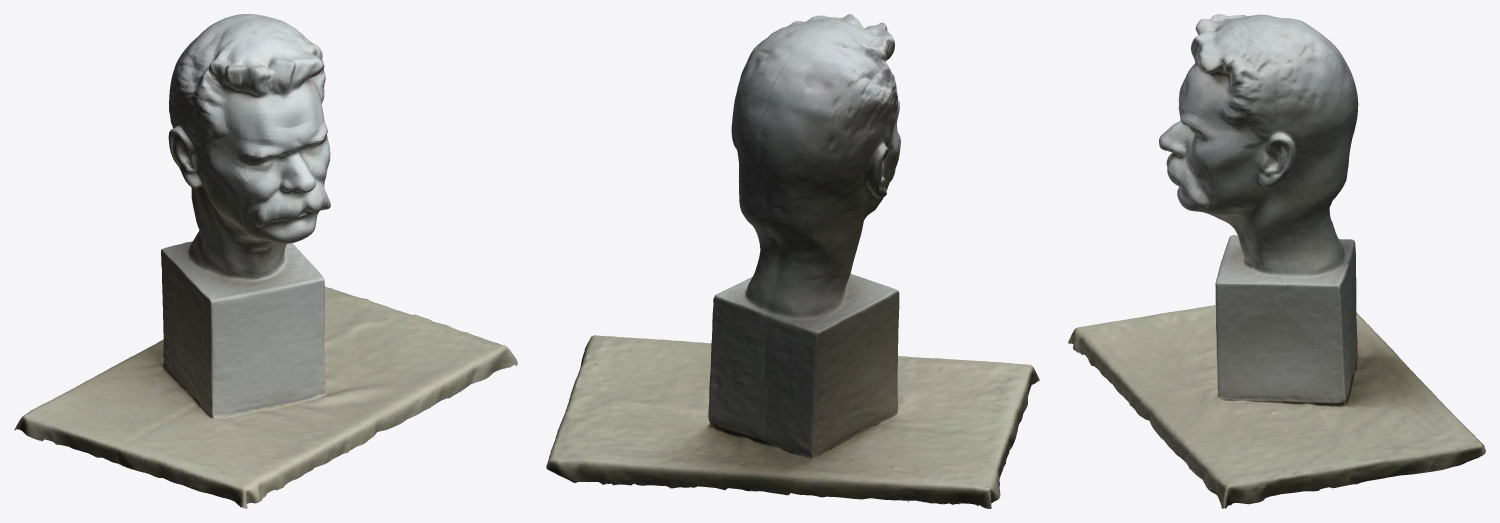
The model's file is 石膏头像_男老年_大胡男子胸像01_opt.glb.
3 renders of one model, left to right at view 1: azimuth 30°, elevation 25°; view 2: azimuth 150°, elevation 25°; view 3: azimuth 270°, elevation 25°, orthographic. The views are drawn at different scales.
Visible parts, largest first — view 1: surfaceShader12SG, surfaceShader12SG_2, surfaceShader12SG_4; view 2: surfaceShader12SG_2, surfaceShader12SG, surfaceShader12SG_4; view 3: surfaceShader12SG_2, surfaceShader12SG, surfaceShader12SG_4.
Boxes of the visible parts, box(x1,y1,x2,y2) form: surfaceShader12SG: box(14, 14, 517, 508); surfaceShader12SG_2: box(111, 74, 499, 424); surfaceShader12SG_4: box(15, 15, 517, 508); surfaceShader12SG_2: box(570, 99, 908, 494); surfaceShader12SG: box(546, 14, 1038, 508); surfaceShader12SG_4: box(546, 14, 1039, 508); surfaceShader12SG_2: box(1148, 95, 1453, 492); surfaceShader12SG: box(1068, 14, 1485, 508); surfaceShader12SG_4: box(1068, 15, 1485, 508).
Bounding box in the file's own units: 0.3638 × 0.3 × 0.3041.
1 material, 1 textured.
